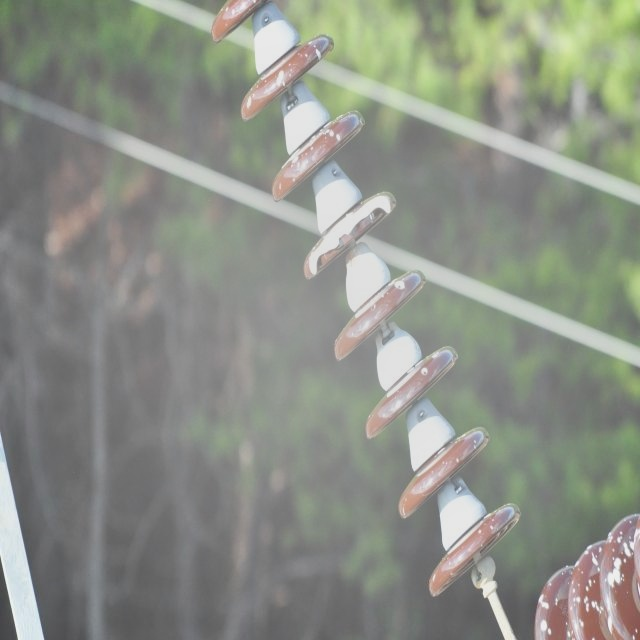broken: (305, 191, 392, 279)
insulator: (209, 0, 522, 604), (532, 513, 640, 640)
